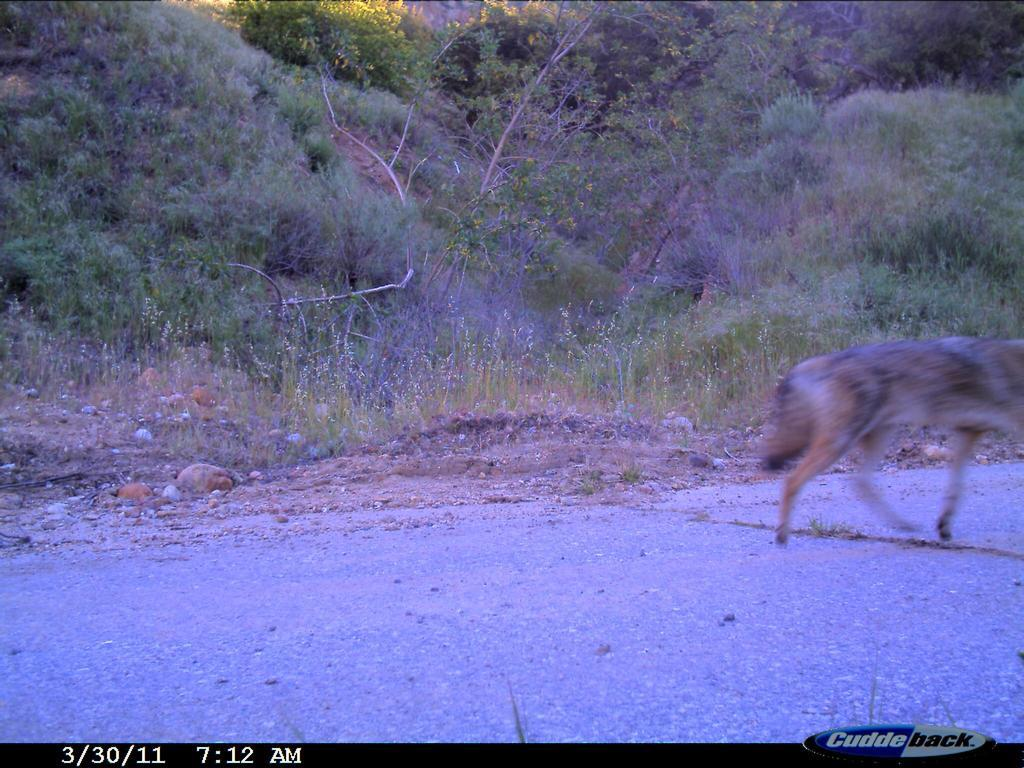coyote: (753, 310, 1019, 557)
